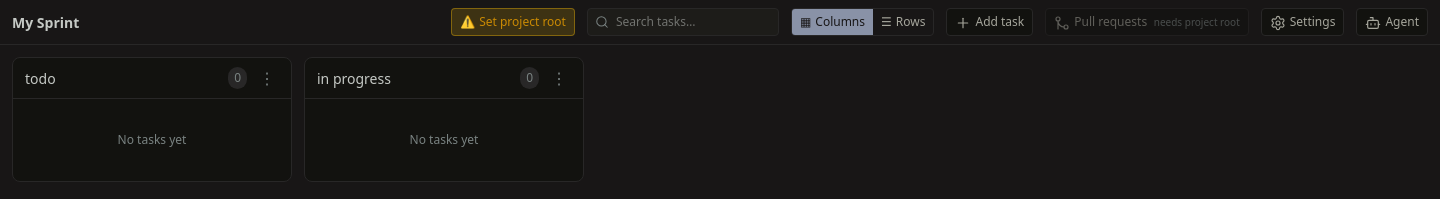
it: KanbanView — header + Add task button › clicking the header button opens the create dialog with the first column pre-selected
Click the button with test id "kanban-add-task-button". click: (990, 22)
box: [946, 8, 1033, 36]
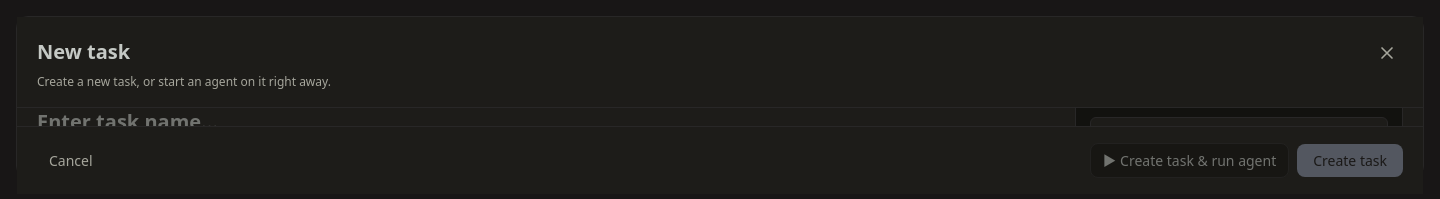
Result: the element with test id "kanban-task-detail-dialog" is shown
